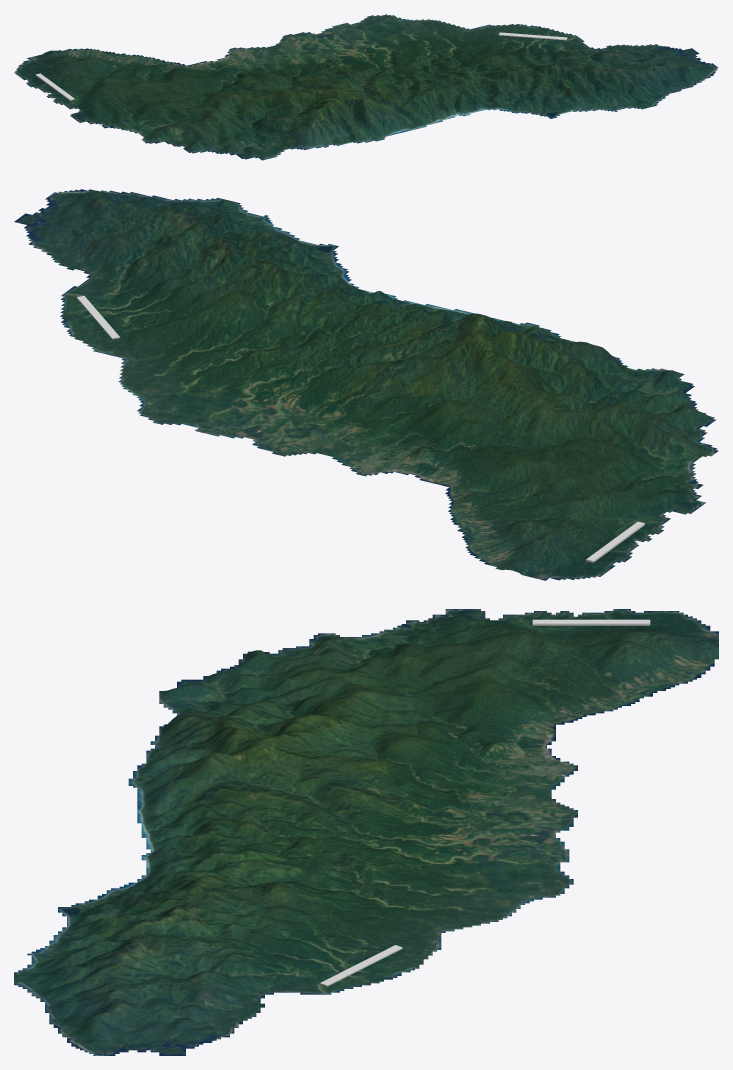
Rendered from japan_island_test.fbx.
3 views of the same model, one above another, from view 1: azimuth 30°, elevation 25°; view 2: azimuth 150°, elevation 25°; view 3: azimuth 270°, elevation 25° (orthographic). The views are drawn at different scales.
Parts seen in each view (by area): view 1: Plane001, pas1; view 2: Plane001; view 3: Plane001, pas2.
Boxes of the visible parts, bbox=[...] form: Plane001: bbox=[14, 14, 718, 160]; pas1: bbox=[499, 32, 567, 40]; Plane001: bbox=[14, 189, 718, 580]; Plane001: bbox=[14, 609, 718, 1055]; pas2: bbox=[532, 619, 650, 625].
Size of the model in its own units: 8997 by 371 by 5998.
